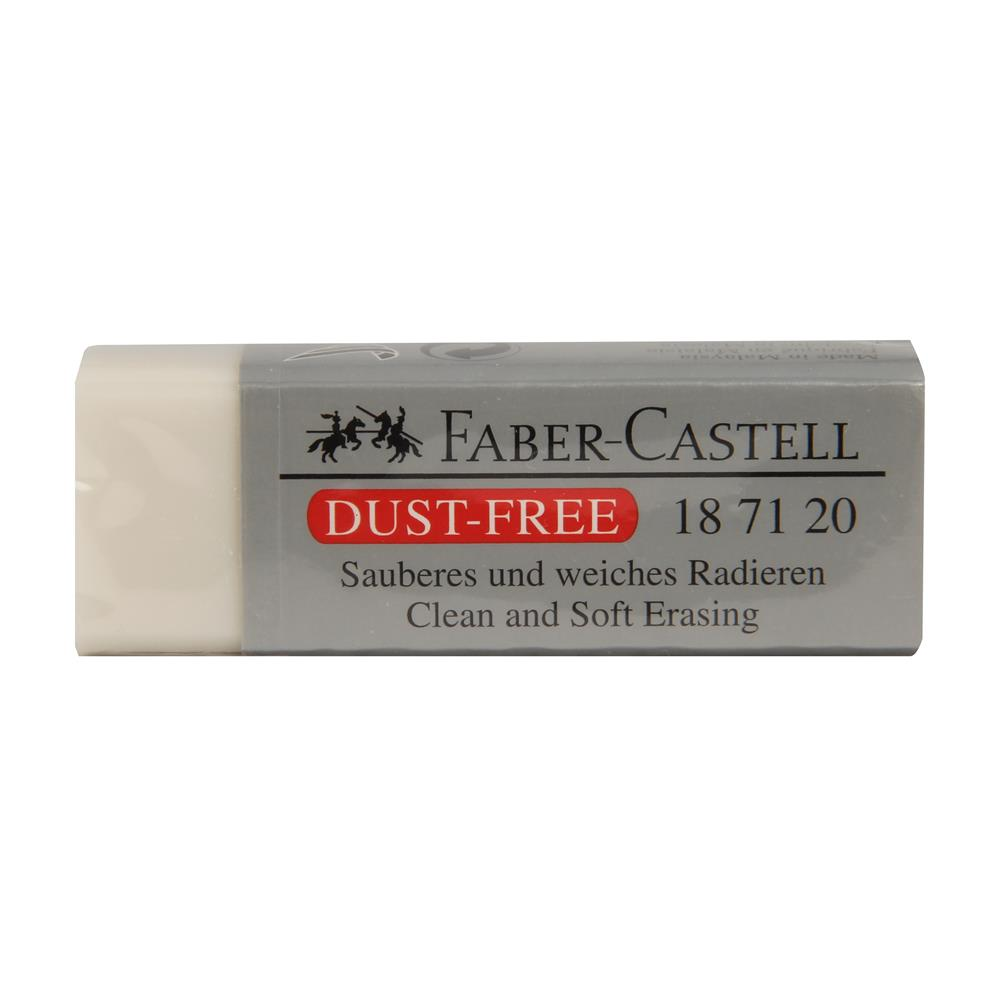eraser: (61, 342, 934, 665)
